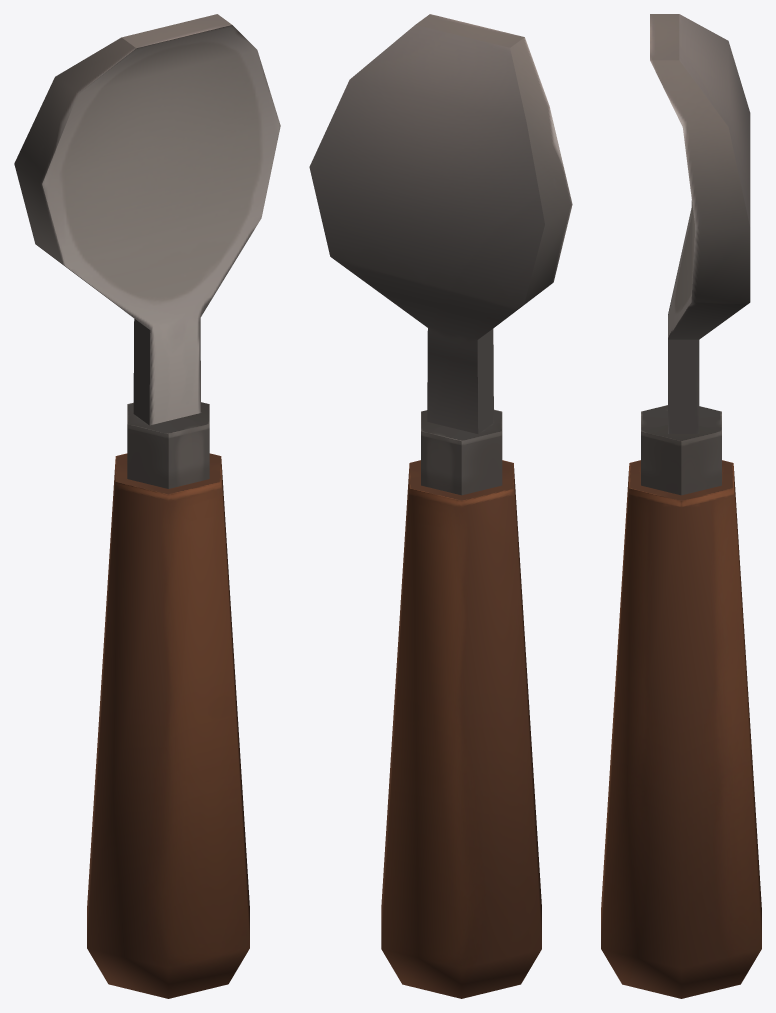
The model's file is spoon.FBX.
The picture shows the model from 3 angles, left to right: view 1: azimuth 30°, elevation 25°; view 2: azimuth 150°, elevation 25°; view 3: azimuth 270°, elevation 25°; orthographic projection.
Visible parts, largest first — view 1: spoon; view 2: spoon; view 3: spoon.
Part boxes in pixels (x1=…): spoon: x1=14, y1=14, x2=280, y2=998; spoon: x1=309, y1=14, x2=572, y2=998; spoon: x1=601, y1=14, x2=761, y2=998.
Bounding box in the file's own units: 1.6 × 6.21 × 0.9475.
